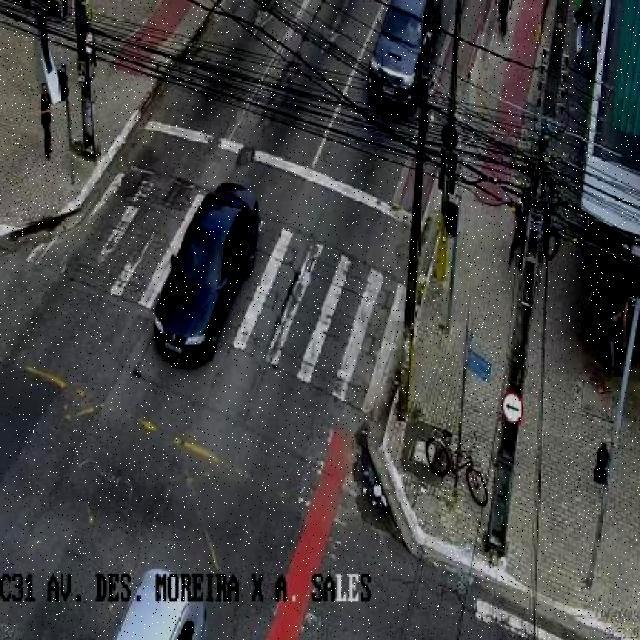Car: (155, 184, 262, 361), (365, 0, 445, 100), (107, 565, 201, 640)
Cycle: (424, 430, 506, 516)
